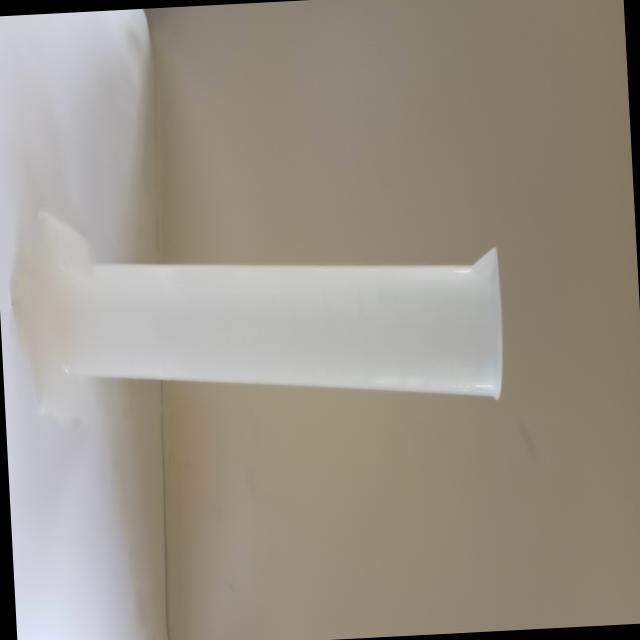graduated_cylinder: (6, 186, 518, 426)
